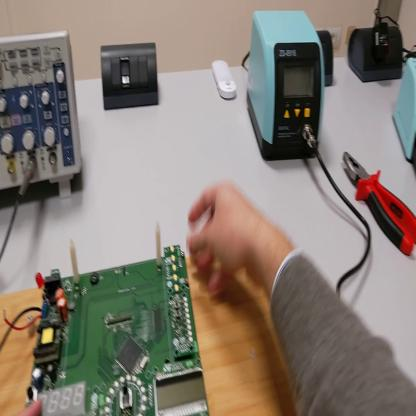hand: (187, 182, 264, 294), (22, 400, 42, 415)
low voltage board: (1, 224, 213, 416)
oscilloscope: (3, 30, 86, 197)
pliers: (344, 152, 416, 259)
socket: (348, 24, 405, 85), (317, 31, 334, 87)
welder base: (393, 57, 415, 161)
welder station: (247, 13, 326, 159)
working area: (2, 227, 298, 416)
